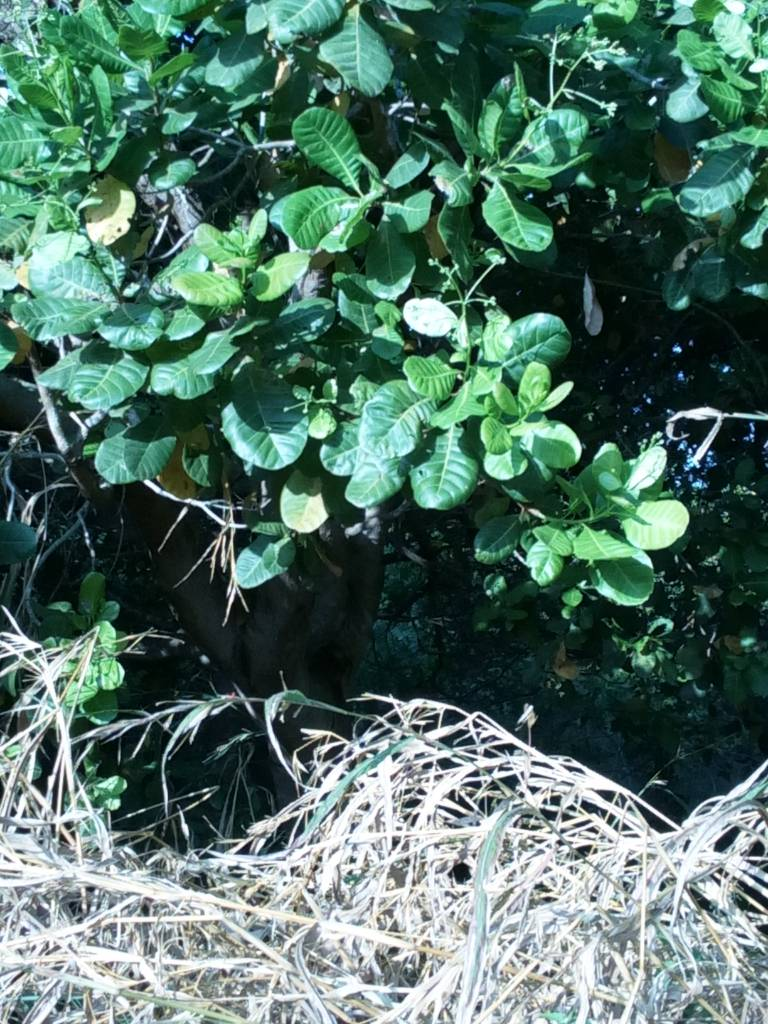Helopeltis anacardii: (358, 383, 424, 457), (10, 296, 110, 342), (435, 160, 475, 207)
